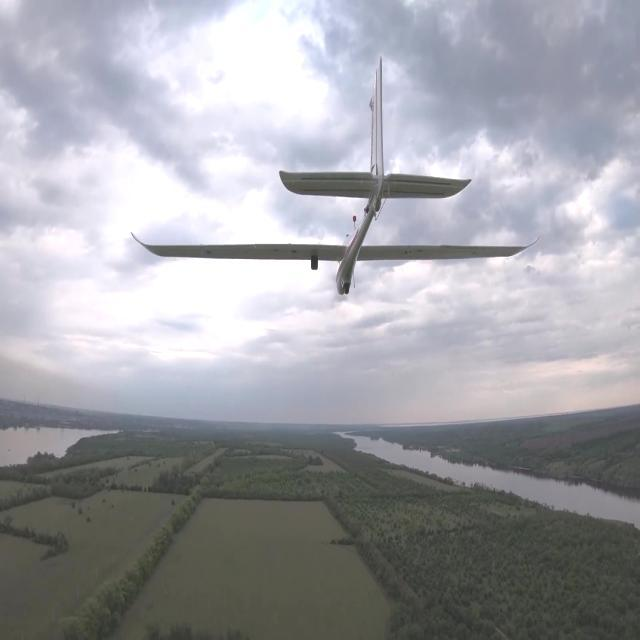iha: (116, 49, 534, 301)
